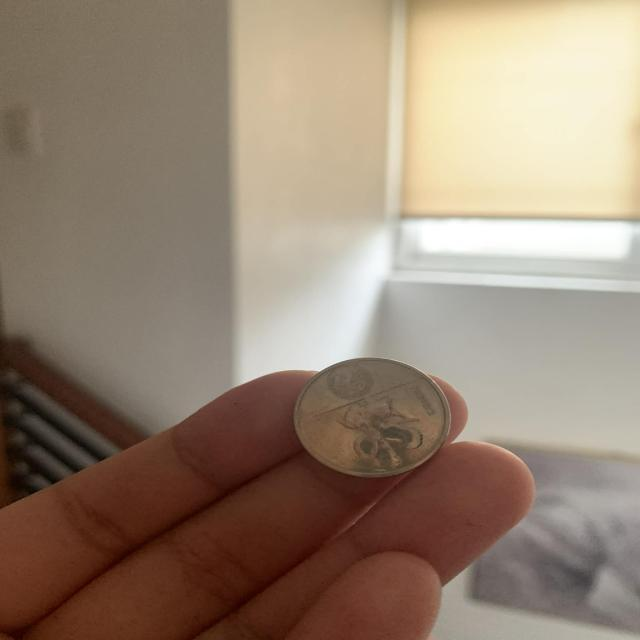25 cents: (294, 349, 457, 482)
